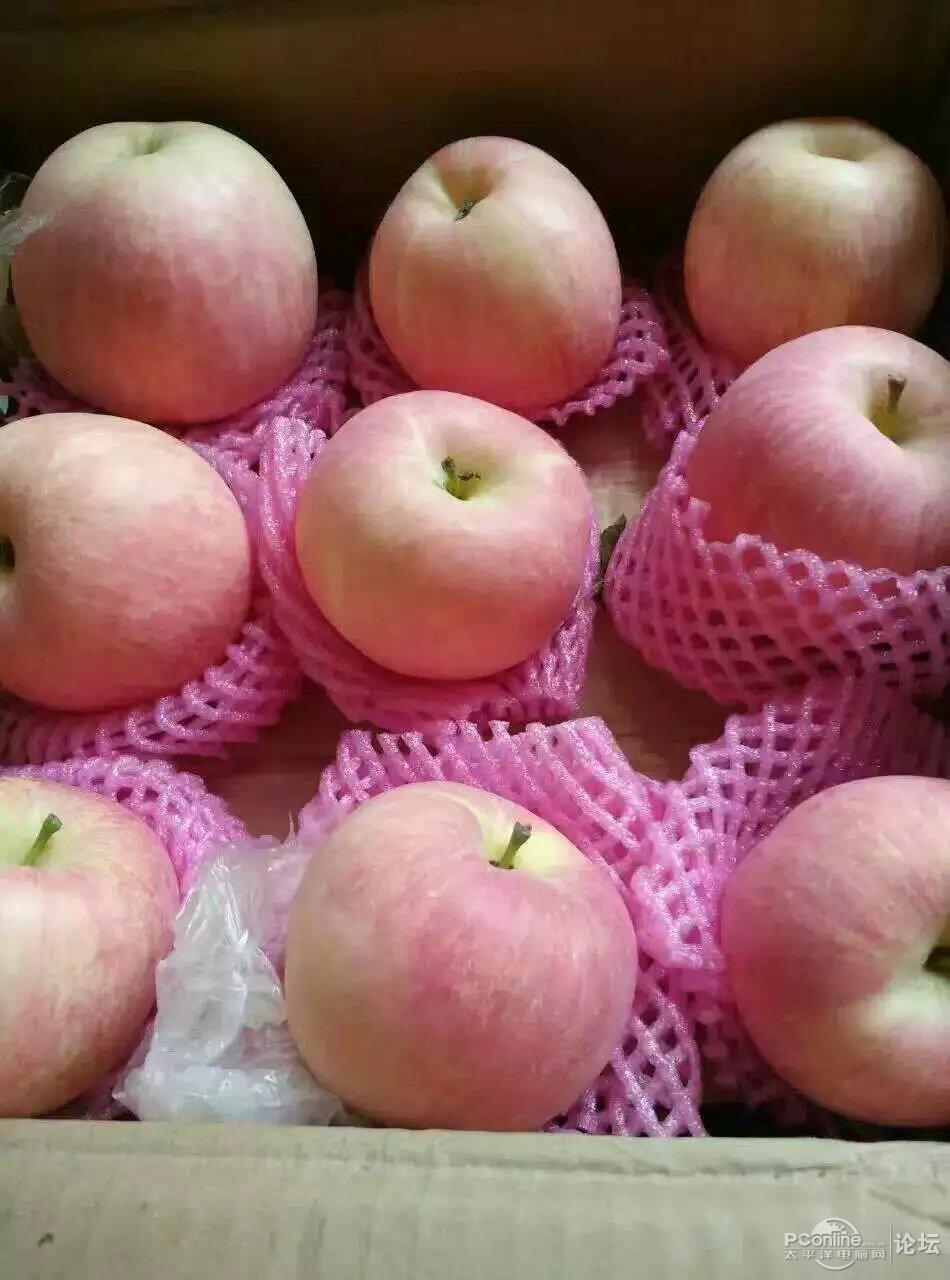apple: (285, 760, 644, 1110), (3, 115, 325, 410), (287, 387, 592, 682), (715, 771, 950, 1126), (1, 411, 261, 715), (361, 137, 621, 420), (675, 118, 947, 371), (706, 323, 950, 577), (1, 773, 177, 1124)
